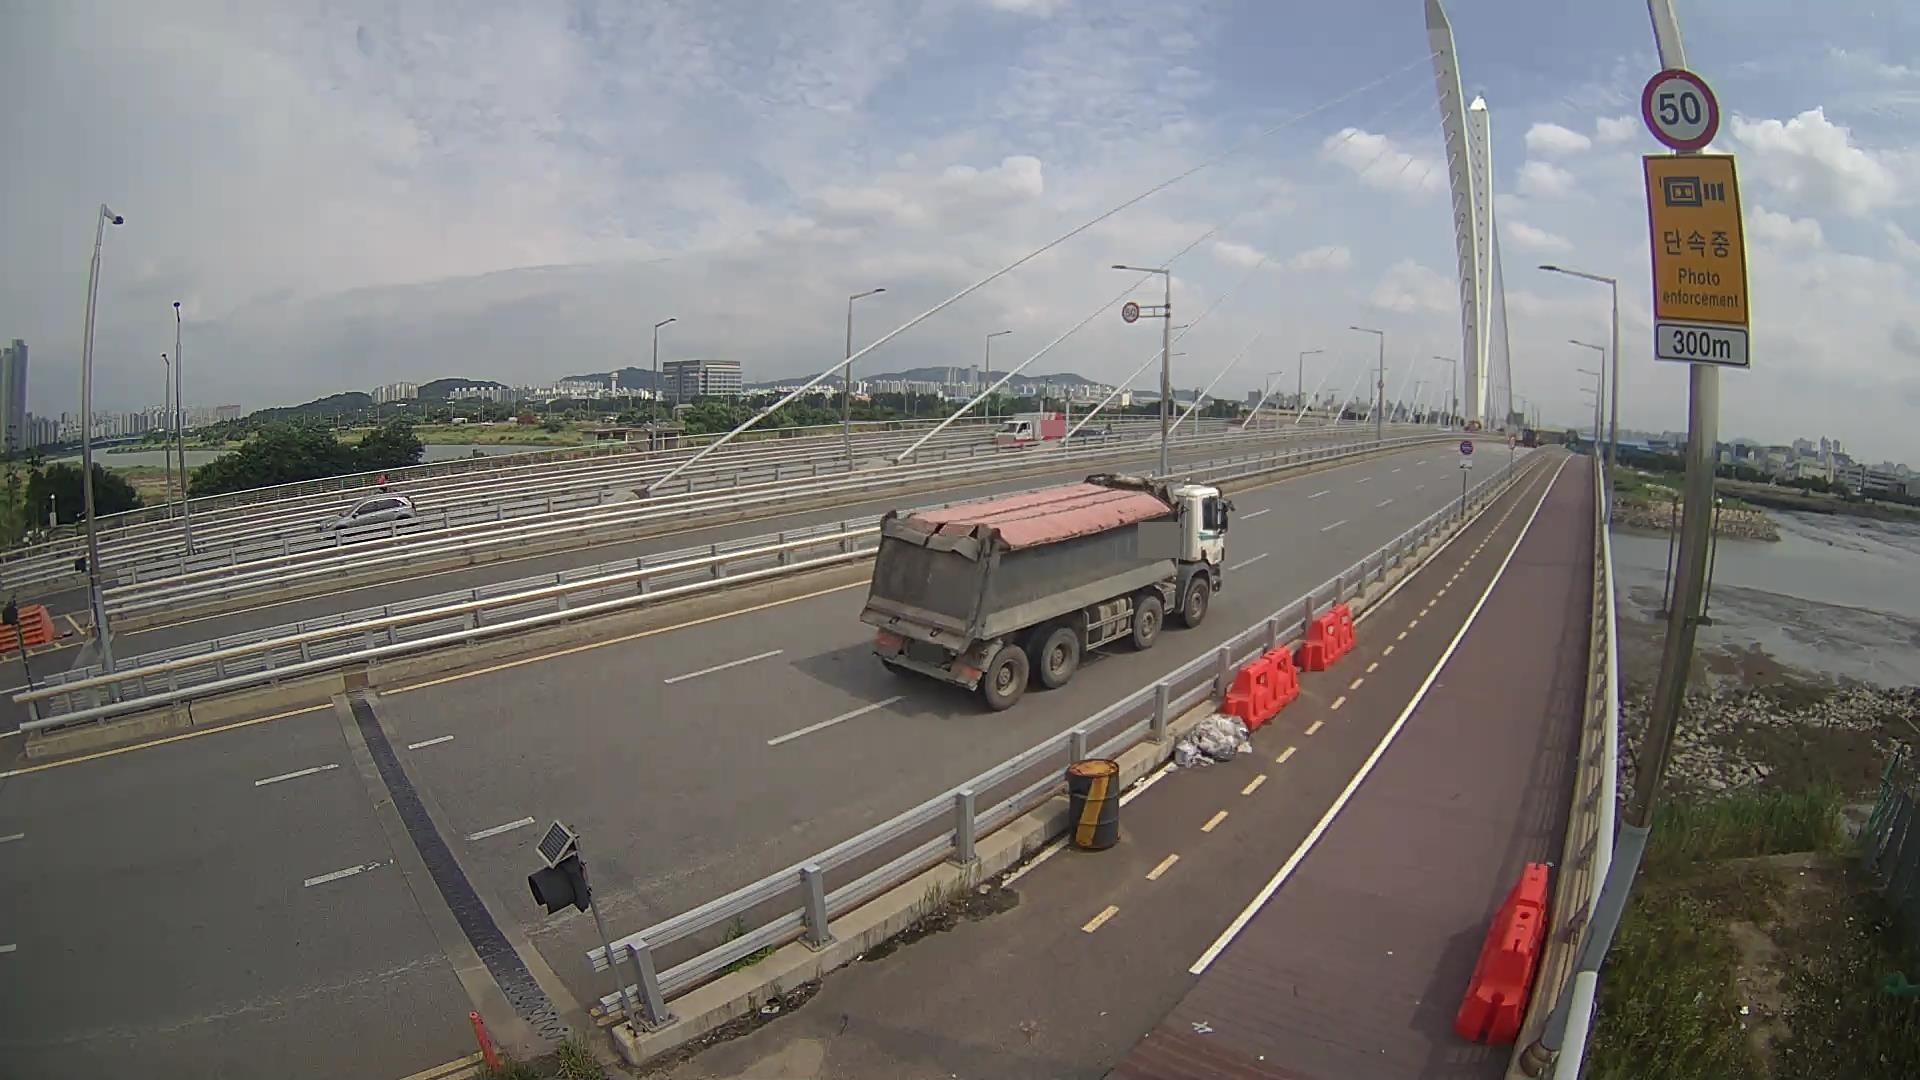정상차량: (860, 473, 1236, 711)
